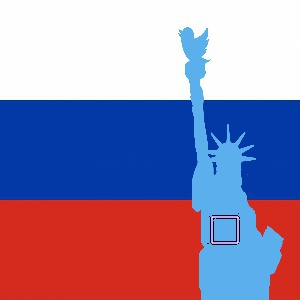square: (209, 213, 240, 246)
